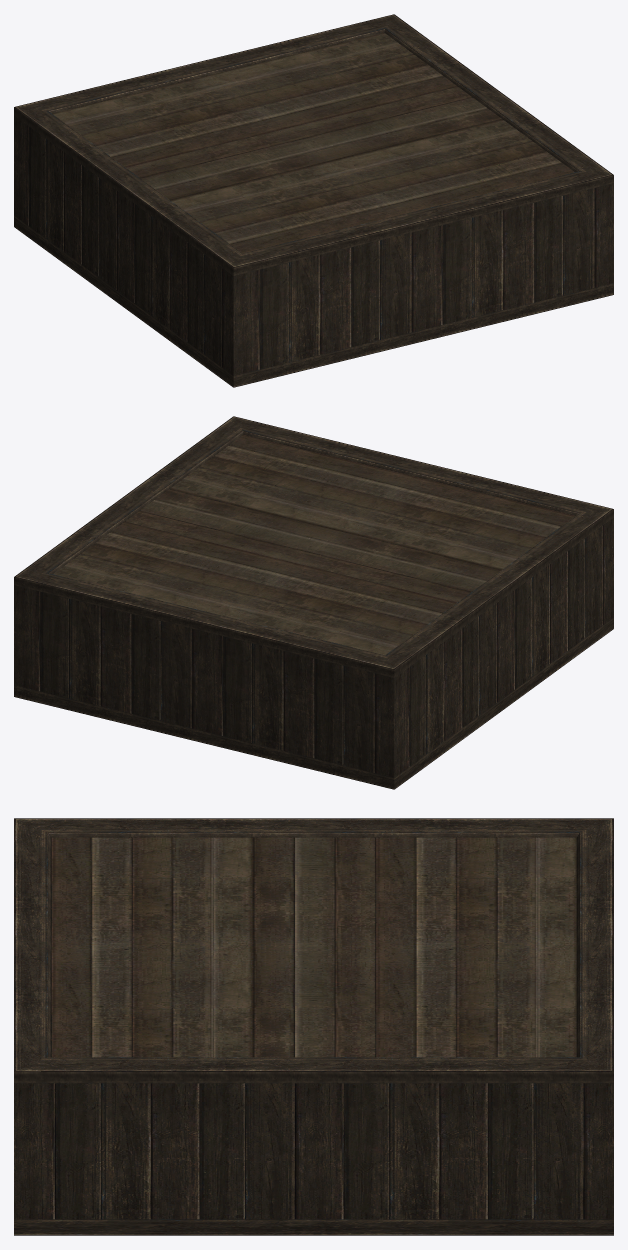
The model's file is vent03.fbx.
3 views of the same model, one above another, from view 1: azimuth 30°, elevation 25°; view 2: azimuth 150°, elevation 25°; view 3: azimuth 270°, elevation 25° (orthographic). The views are drawn at different scales.
Visible parts, largest first — view 1: vent03; view 2: vent03; view 3: vent03.
Part boxes in pixels (bbox=[...]): vent03: bbox=[14, 14, 613, 387]; vent03: bbox=[14, 416, 613, 789]; vent03: bbox=[14, 818, 613, 1235].
Size of the model in its own units: 5.03 by 1.52 by 5.03.
